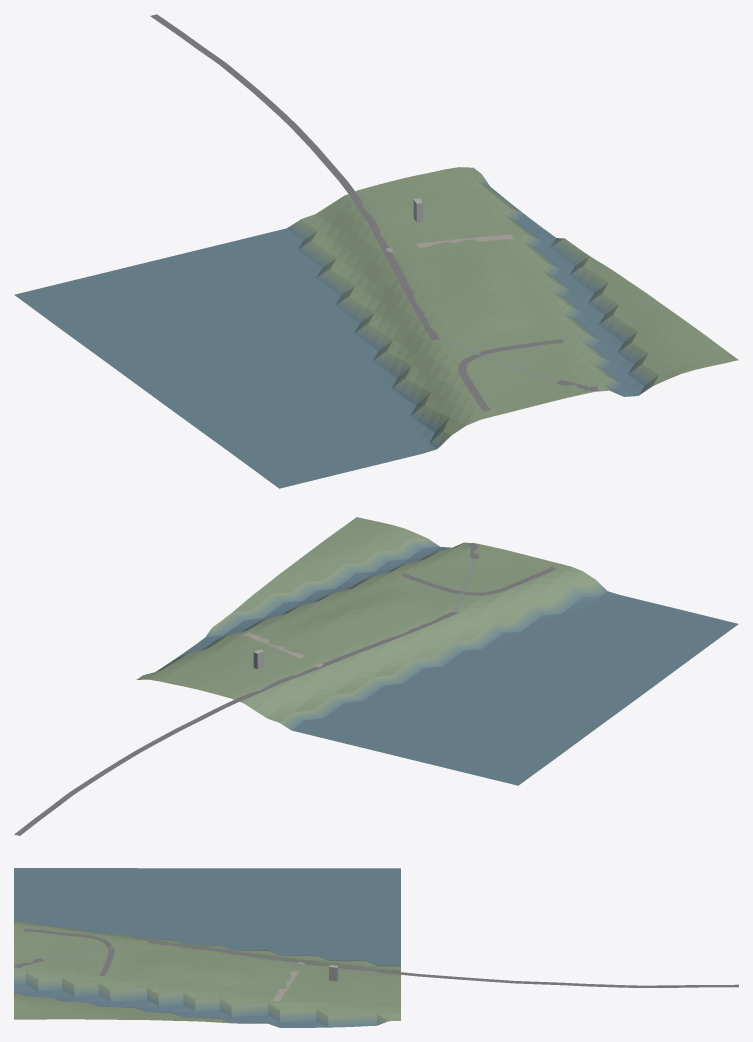
File: tile_7_-3.glb
3 views of the same model, one above another, from view 1: azimuth 30°, elevation 25°; view 2: azimuth 150°, elevation 25°; view 3: azimuth 270°, elevation 25° (orthographic). The views are drawn at different scales.
Visible parts, largest first — view 1: terrain, roads, paths; view 2: terrain, roads, paths; view 3: terrain, roads, paths.
Boxes of the visible parts, x1=… form: terrain: x1=14, y1=167, x2=738, y2=488; roads: x1=150, y1=14, x2=598, y2=411; paths: x1=386, y1=235, x2=558, y2=382; terrain: x1=136, y1=517, x2=738, y2=785; roads: x1=14, y1=542, x2=556, y2=835; paths: x1=243, y1=558, x2=476, y2=667; terrain: x1=14, y1=868, x2=400, y2=1027; roads: x1=14, y1=928, x2=738, y2=987; paths: x1=42, y1=941, x2=304, y2=1001.
Bounding box in the file's own units: 256 × 21.5 × 480.
